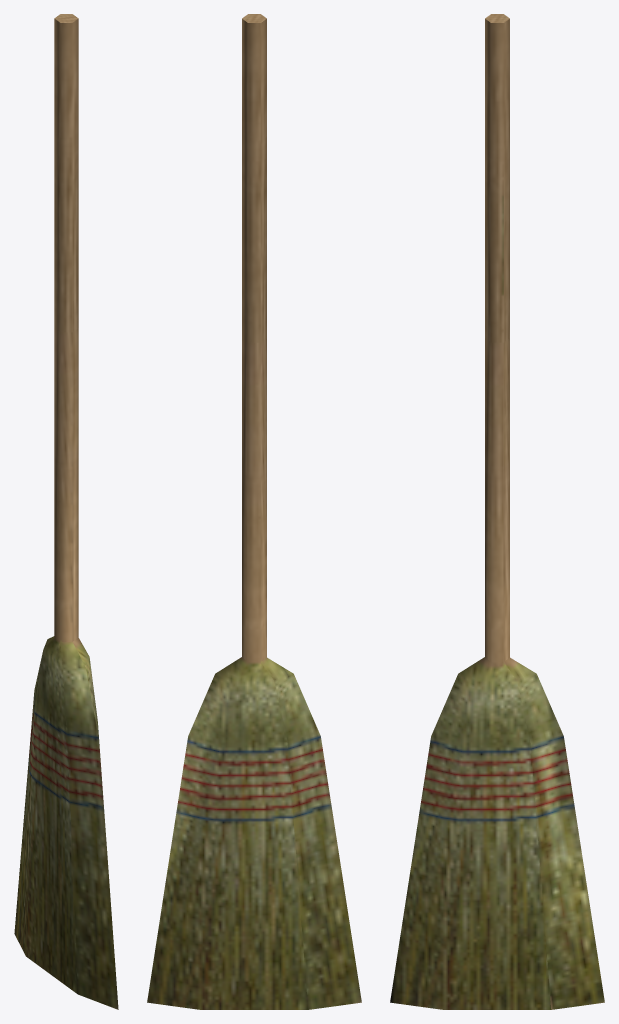
The model's file is Broom_02-col.glb.
3 views of the same model, side by side, from view 1: azimuth 90°, elevation 25°; view 2: azimuth 150°, elevation 25°; view 3: azimuth 330°, elevation 25° (orthographic). The views are drawn at different scales.
Parts seen in each view (by area): view 1: Broom_02-col; view 2: Broom_02-col; view 3: Broom_02-col.
Part boxes in pixels (left/top/right/bottom): Broom_02-col: left=14, top=14, right=118, bottom=1009; Broom_02-col: left=147, top=14, right=361, bottom=1009; Broom_02-col: left=390, top=14, right=604, bottom=1009.
Size of the model in its own units: 0.2502 by 1.46 by 0.1445.
Materials: 1 (1 with a texture image).
